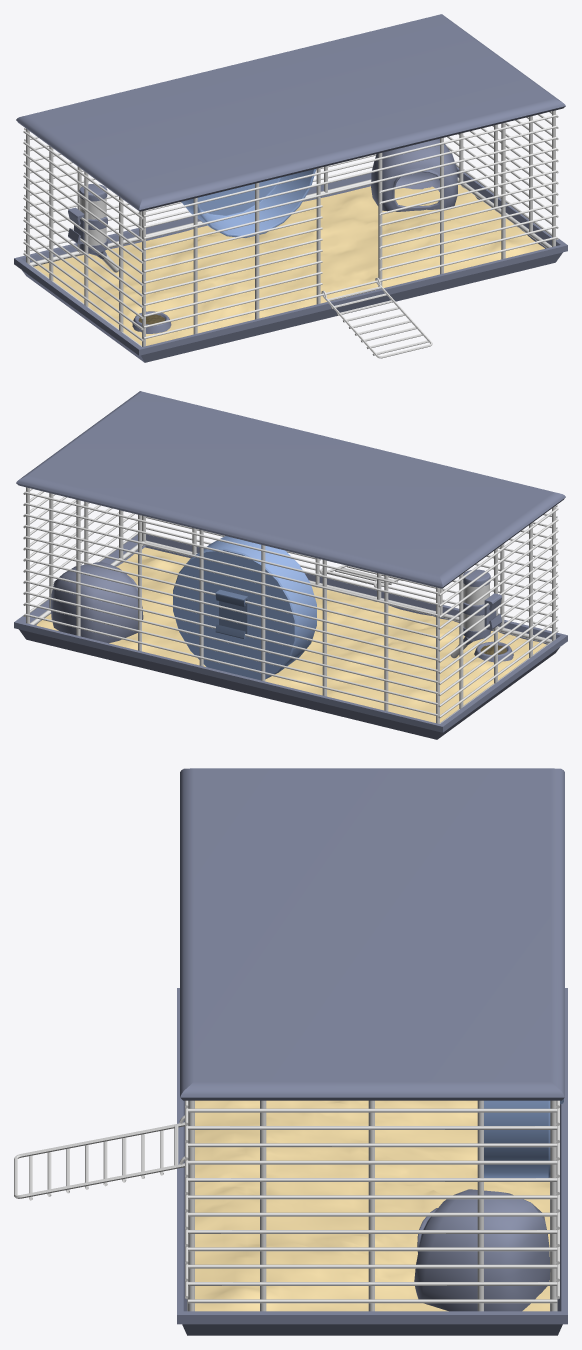
File: hamstercage_001.fbx
The picture shows the model from 3 angles, top to bottom: view 1: azimuth 30°, elevation 25°; view 2: azimuth 150°, elevation 25°; view 3: azimuth 270°, elevation 25°; orthographic projection. The views are drawn at different scales.
Parts seen in each view (by area): view 1: hamstercageLid, hamstercageFloor, hamstercageFence, hamstercageFenceVert, hamstercageFenceSide, wheel_rotate, hamsterHouse, hamstercageDoor, bottom_railing, tankLid, tankGlass, tankAttach; view 2: hamstercageLid, hamstercageFloor, hamstercageFence, wheel_rotate, hamstercageFenceVert, hamstercageFenceSide, hamsterHouse, bottom_railing, wheel_attach, tankGlass, tankLid, hamstercageDoor (+1 smaller); view 3: hamstercageLid, hamstercageFloor, hamstercageFenceSide, hamsterHouse, hamstercageFenceVert, wheel_rotate, hamstercageDoor, hamstercageFence.
Part boxes in pixels (bbox=[...]): hamstercageLid: bbox=[14, 14, 567, 362]; hamstercageFloor: bbox=[34, 184, 544, 345]; hamstercageFence: bbox=[24, 114, 557, 339]; hamstercageFenceVert: bbox=[26, 110, 555, 346]; hamstercageFenceSide: bbox=[23, 111, 558, 341]; wheel_rotate: bbox=[181, 168, 316, 238]; hamsterHouse: bbox=[371, 138, 457, 211]; hamstercageDoor: bbox=[321, 277, 432, 358]; bottom_railing: bbox=[29, 177, 551, 346]; tankLid: bbox=[79, 184, 118, 272]; tankGlass: bbox=[80, 197, 106, 245]; tankAttach: bbox=[68, 207, 84, 244]; hamstercageLid: bbox=[14, 391, 567, 739]; hamstercageFloor: bbox=[36, 547, 546, 722]; hamstercageFence: bbox=[24, 491, 557, 716]; wheel_rotate: bbox=[173, 536, 316, 680]; hamstercageFenceVert: bbox=[26, 487, 555, 723]; hamstercageFenceSide: bbox=[23, 488, 558, 718]; hamsterHouse: bbox=[50, 562, 143, 643]; bottom_railing: bbox=[30, 540, 552, 723]; wheel_attach: bbox=[215, 589, 248, 638]; tankGlass: bbox=[463, 583, 489, 631]; tankLid: bbox=[450, 569, 490, 658]; hamstercageDoor: bbox=[320, 565, 402, 587]; hamstercageLid: bbox=[177, 768, 567, 1335]; hamstercageFloor: bbox=[195, 1100, 549, 1311]; hamstercageFenceSide: bbox=[188, 1108, 557, 1303]; hamsterHouse: bbox=[414, 1189, 550, 1311]; hamstercageFenceVert: bbox=[188, 1100, 556, 1311]; wheel_rotate: bbox=[484, 1100, 550, 1177]; hamstercageDoor: bbox=[14, 1115, 184, 1200]; hamstercageFence: bbox=[185, 1100, 559, 1299].
Bounding box in the file's own units: 101 × 36.63 × 72.41.
